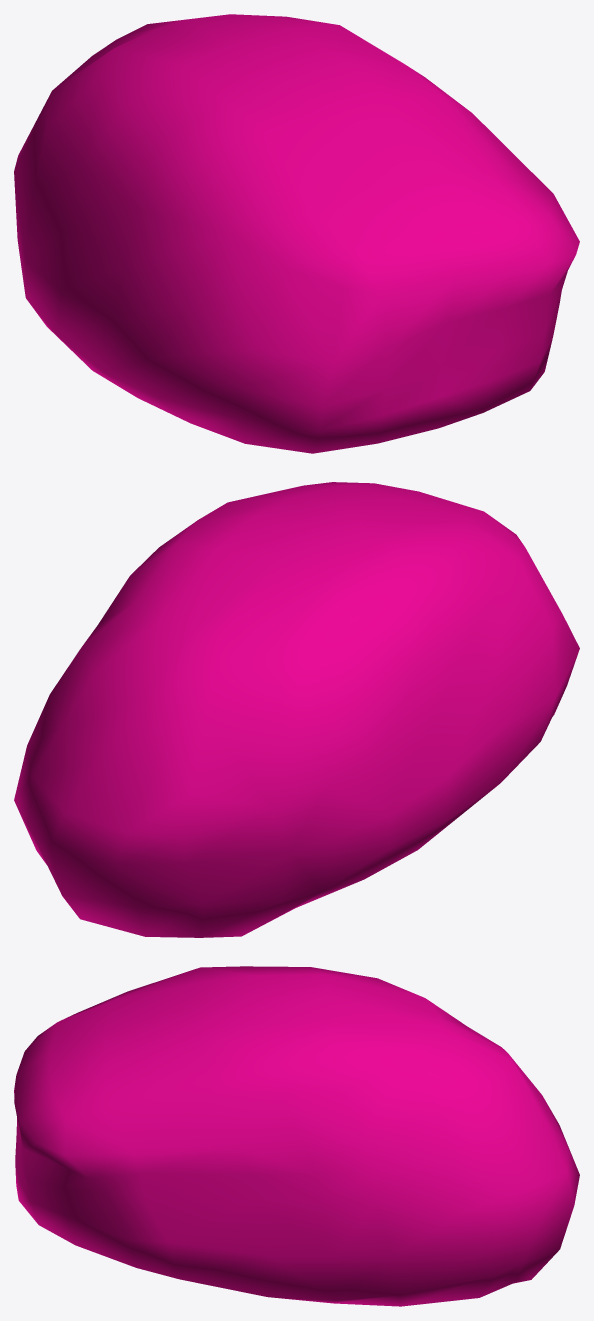
File: Rock_Small_04_Lod0.fbx
The picture shows the model from 3 angles, top to bottom: view 1: azimuth 30°, elevation 25°; view 2: azimuth 150°, elevation 25°; view 3: azimuth 270°, elevation 25°; orthographic projection. The views are drawn at different scales.
Parts seen in each view (by area): view 1: Rock_Small_04_Lod0; view 2: Rock_Small_04_Lod0; view 3: Rock_Small_04_Lod0.
Boxes of the visible parts, left/top/right/bottom form: Rock_Small_04_Lod0: left=14, top=14, right=579, bottom=453; Rock_Small_04_Lod0: left=14, top=482, right=579, bottom=937; Rock_Small_04_Lod0: left=14, top=966, right=579, bottom=1306.
Size of the model in its own units: 343 by 275 by 538.
